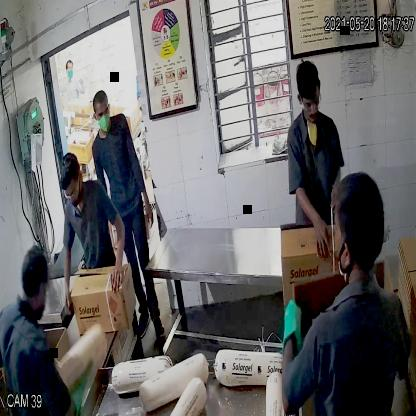goggles: (299, 92, 323, 112), (60, 180, 81, 200)
no_goggles: (94, 106, 111, 118)
